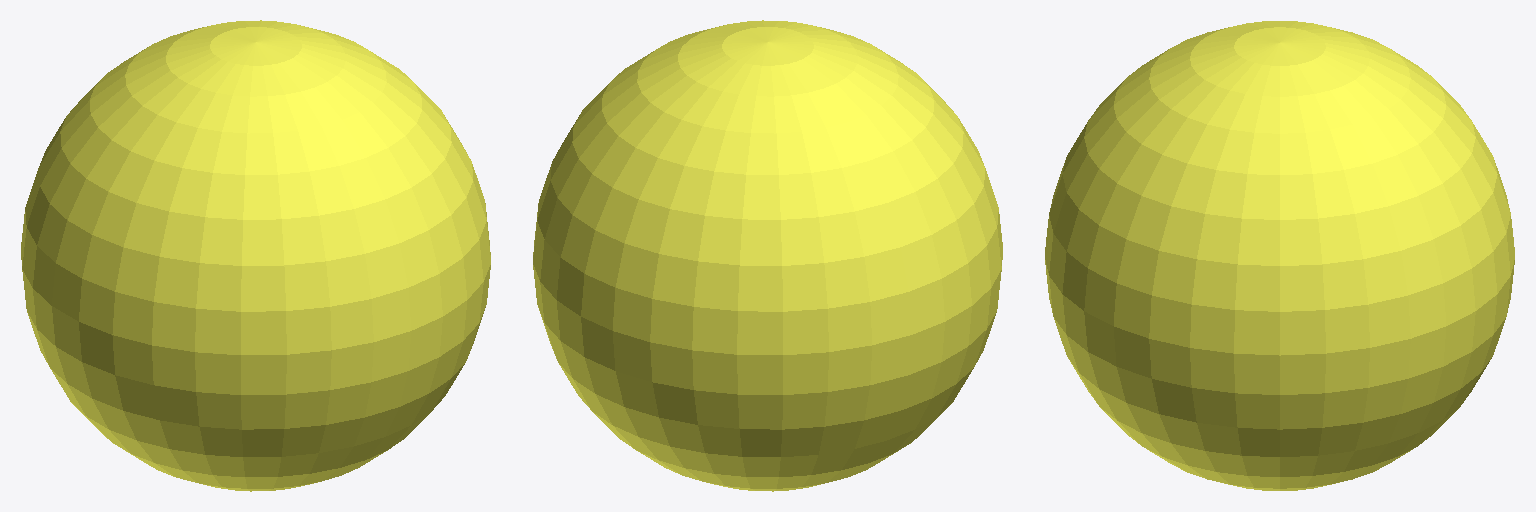
The robot description file, URDF, robot "cube.urdf":
<?xml version="0.0" ?>
<robot name="cube.urdf">
  <link name="baseLink">
    <contact>
      <lateral_friction value="0.0"/>
      <rolling_friction value="0.0"/>
      <contact_cfm value="0.0"/>
      <contact_erp value="0.0"/>
    </contact>
    <inertial>
      <origin rpy="0 0 0" xyz="0.0 0.02 0.0"/>
       <mass value="0.05"/>
       <inertia ixx="1" ixy="0" ixz="0" iyy="1" iyz="0" izz="1"/>
    </inertial>
    <visual>
      <origin rpy="0 0 0" xyz="0 0.02 0"/>
      <geometry>
        <sphere radius="0.03"/>
      </geometry>
       <material name="yellow">
        <color rgba="1 1 0.4 1"/>
      </material>
    </visual>
    <collision>
      <origin rpy="0 0 0" xyz="0 0.02 0"/>
      <geometry>
	 	<sphere radius="0.03"/>
      </geometry>
    </collision>
  </link>
</robot>

--- What the picture shows (computed from the rendered views, not written in the file) ---
Views: 3 orthographic renders of the robot side by side, from view 1: azimuth 30°, elevation 25°; view 2: azimuth 150°, elevation 25°; view 3: azimuth 270°, elevation 25°.
Robot: cube.urdf — 1 links, 0 joints (none); root link baseLink; default pose: every joint at zero.
Visible links, largest first — view 1: baseLink; view 2: baseLink; view 3: baseLink.
Link boxes in pixels (bbox=[...]): baseLink: bbox=[21, 20, 490, 491]; baseLink: bbox=[533, 20, 1002, 491]; baseLink: bbox=[1045, 21, 1514, 490].
Bounding box of the posed robot: 0.06 × 0.06 × 0.06 m (x, y, z).
Geometry: primitives only (box / cylinder / sphere), no mesh files.